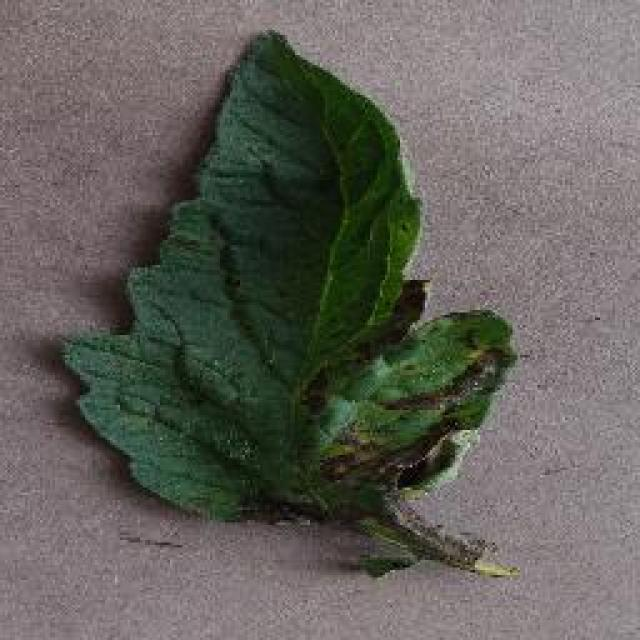Tomato___Early_blight: (58, 25, 526, 583)
